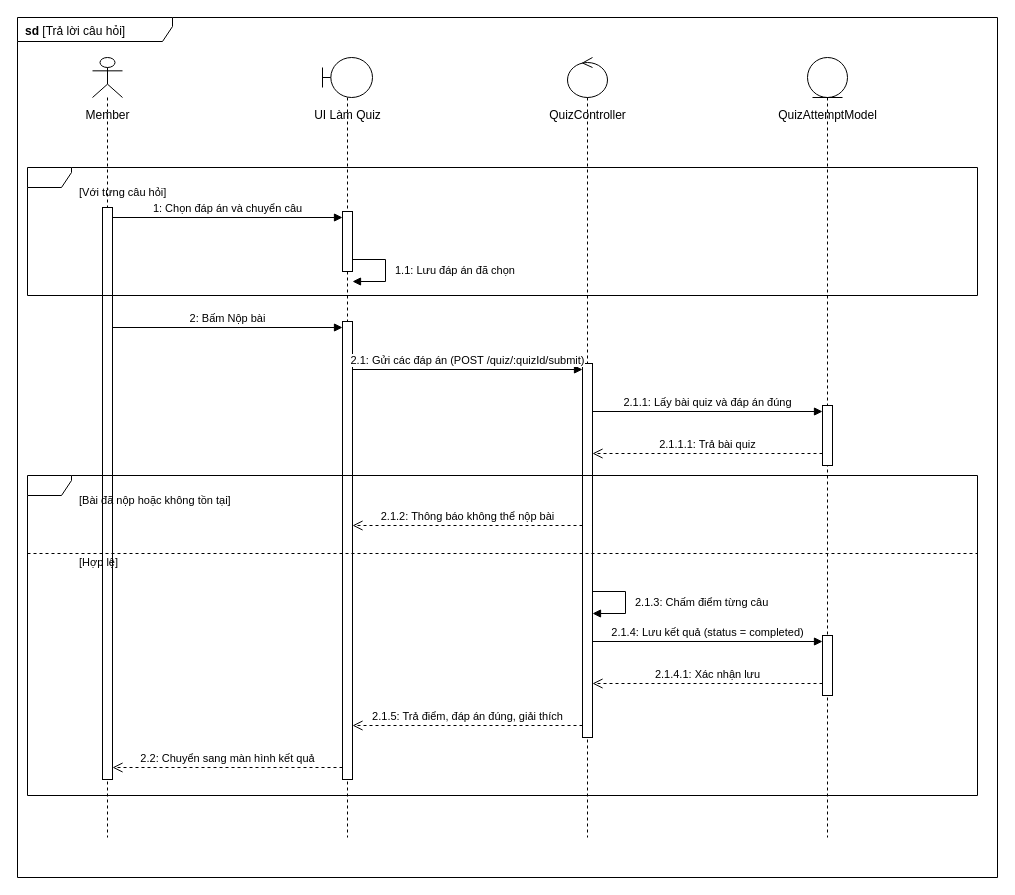
Some shapes in this 1015 by 895 pixel diagram are drawn without their labels. The shapes that lost their labels are listed below. From the top down, each one's box as (x1, y1, x2, y2) in pixels, then its label:
(26, 166, 978, 296): loop
(26, 474, 978, 796): alt
